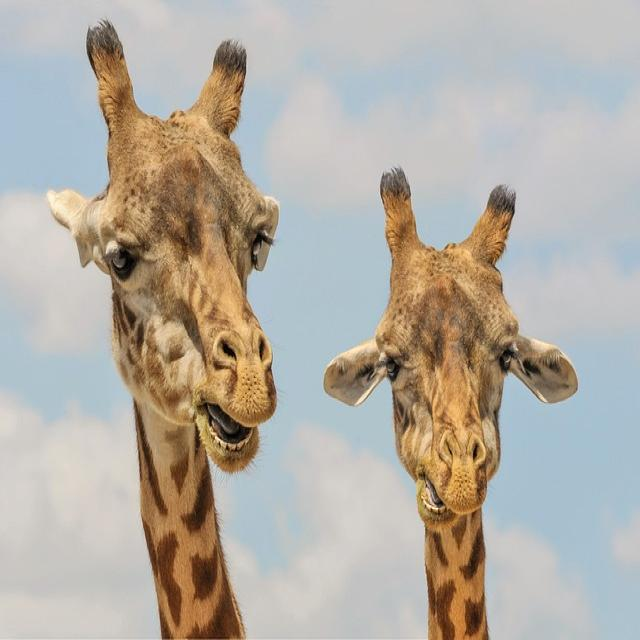Herbivorous: (45, 21, 280, 640), (321, 168, 580, 640)
